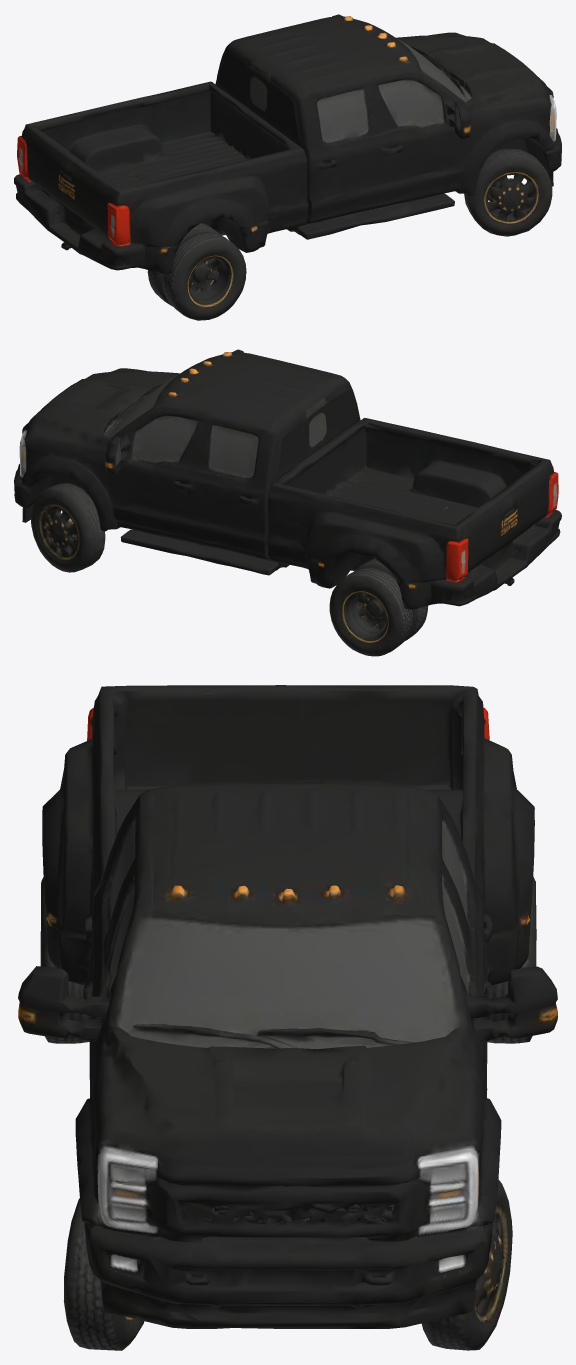
The model's file is truck-hd.glb.
3 renders of one model, top to bottom at view 1: azimuth 30°, elevation 25°; view 2: azimuth 150°, elevation 25°; view 3: azimuth 270°, elevation 25°, orthographic. The views are drawn at different scales.
Visible parts, largest first — view 1: tripo_node_c1810531-c5bb-487c-8c8e-d5d96f9d2f0e; view 2: tripo_node_c1810531-c5bb-487c-8c8e-d5d96f9d2f0e; view 3: tripo_node_c1810531-c5bb-487c-8c8e-d5d96f9d2f0e.
Boxes of the visible parts, <box> form: tripo_node_c1810531-c5bb-487c-8c8e-d5d96f9d2f0e: <box>14,14,561,320</box>; tripo_node_c1810531-c5bb-487c-8c8e-d5d96f9d2f0e: <box>14,349,561,656</box>; tripo_node_c1810531-c5bb-487c-8c8e-d5d96f9d2f0e: <box>18,685,557,1350</box>.
Size of the model in its own units: 1 by 0.3793 by 0.4972.
Materials: 1 (1 with a texture image).
